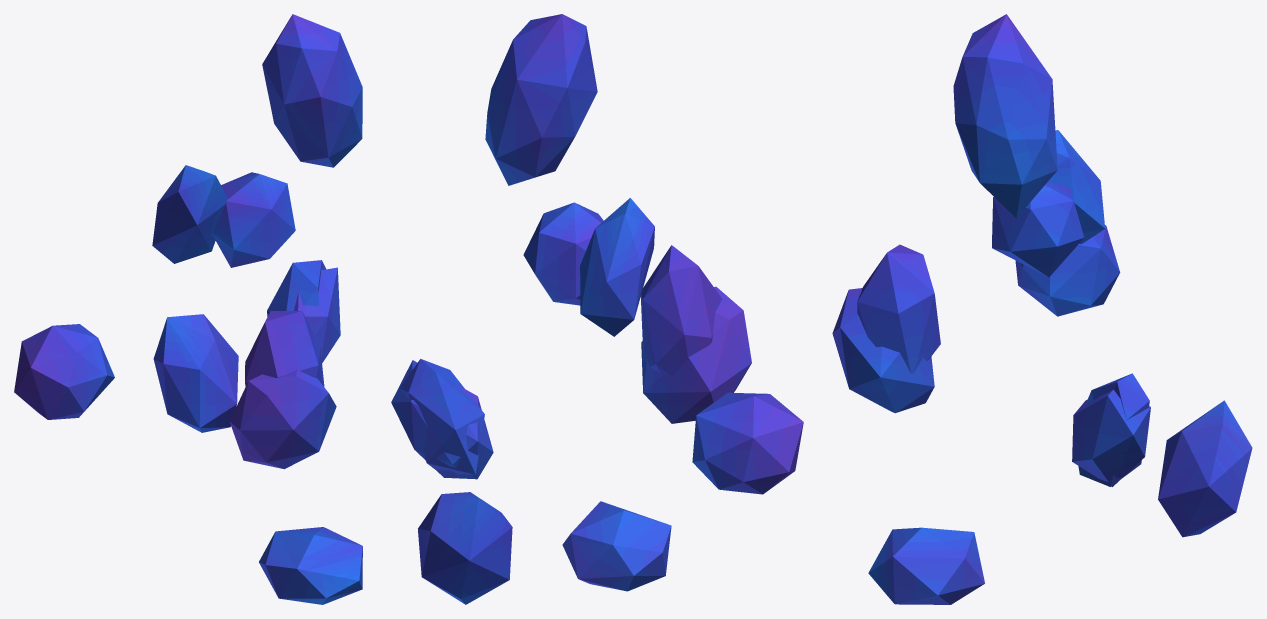
The model's file is Arbre2f.obj.
3 views of the same model, side by side, from view 1: azimuth 30°, elevation 25°; view 2: azimuth 150°, elevation 25°; view 3: azimuth 270°, elevation 25° (orthographic). The views are drawn at different scales.
Visible parts, largest first — view 1: Arbre2:Group32950 group; view 2: Arbre2:Group32950 group; view 3: Arbre2:Group32950 group.
Part boxes in pixels (x1,y1,x2,y2): Arbre2:Group32950 group: (14,14,362,604); Arbre2:Group32950 group: (391,14,803,604); Arbre2:Group32950 group: (832,14,1252,604).
Size of the model in its own units: 3.91 by 6 by 3.84.
1 material, 1 textured.
